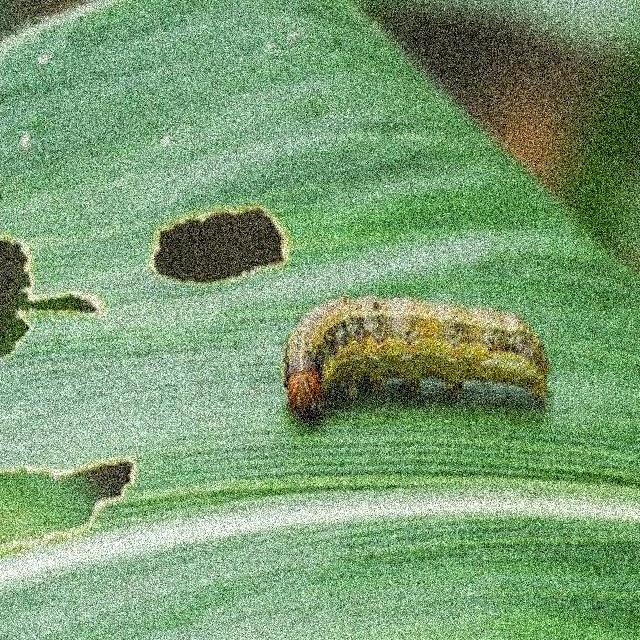worm: (282, 294, 550, 424)
